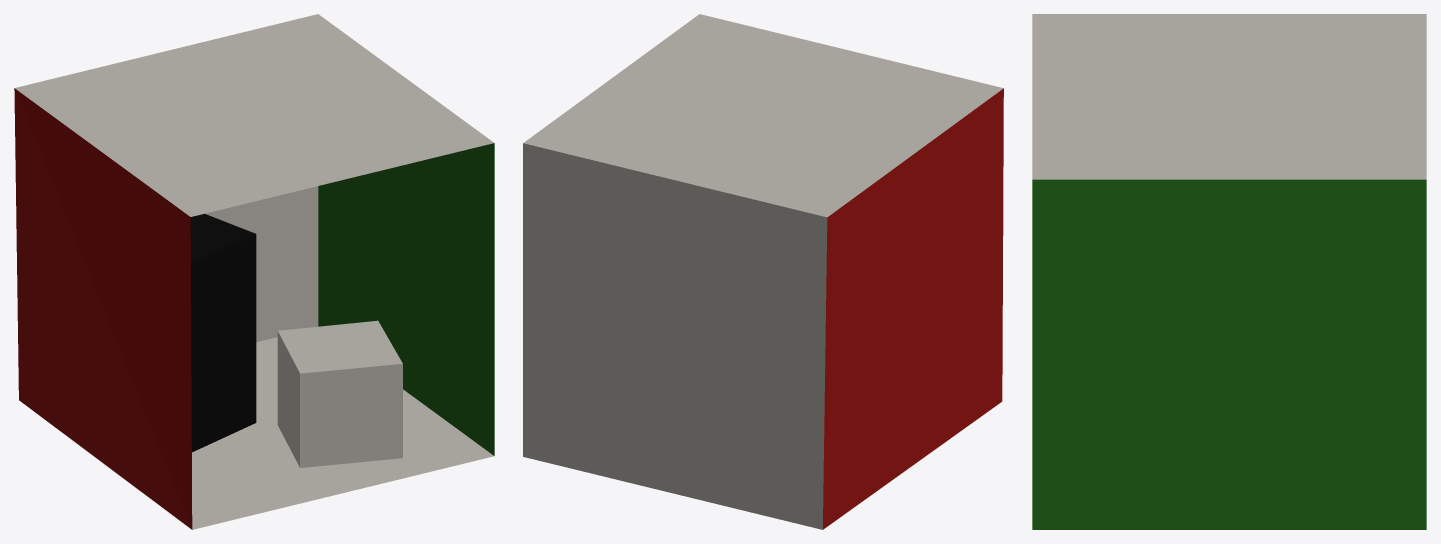
Rendered from CornellBox-Mirror.obj.
The picture shows the model from 3 angles, left to right: view 1: azimuth 30°, elevation 25°; view 2: azimuth 150°, elevation 25°; view 3: azimuth 270°, elevation 25°; orthographic projection. The views are drawn at different scales.
Parts seen in each view (by area): view 1: CornellBox-Mirror; view 2: CornellBox-Mirror; view 3: CornellBox-Mirror.
Part boxes in pixels (x1=…): CornellBox-Mirror: x1=14, y1=14, x2=494, y2=529; CornellBox-Mirror: x1=523, y1=14, x2=1003, y2=529; CornellBox-Mirror: x1=1032, y1=14, x2=1426, y2=529.
Size of the model in its own units: 2.02 by 1.99 by 2.03.
